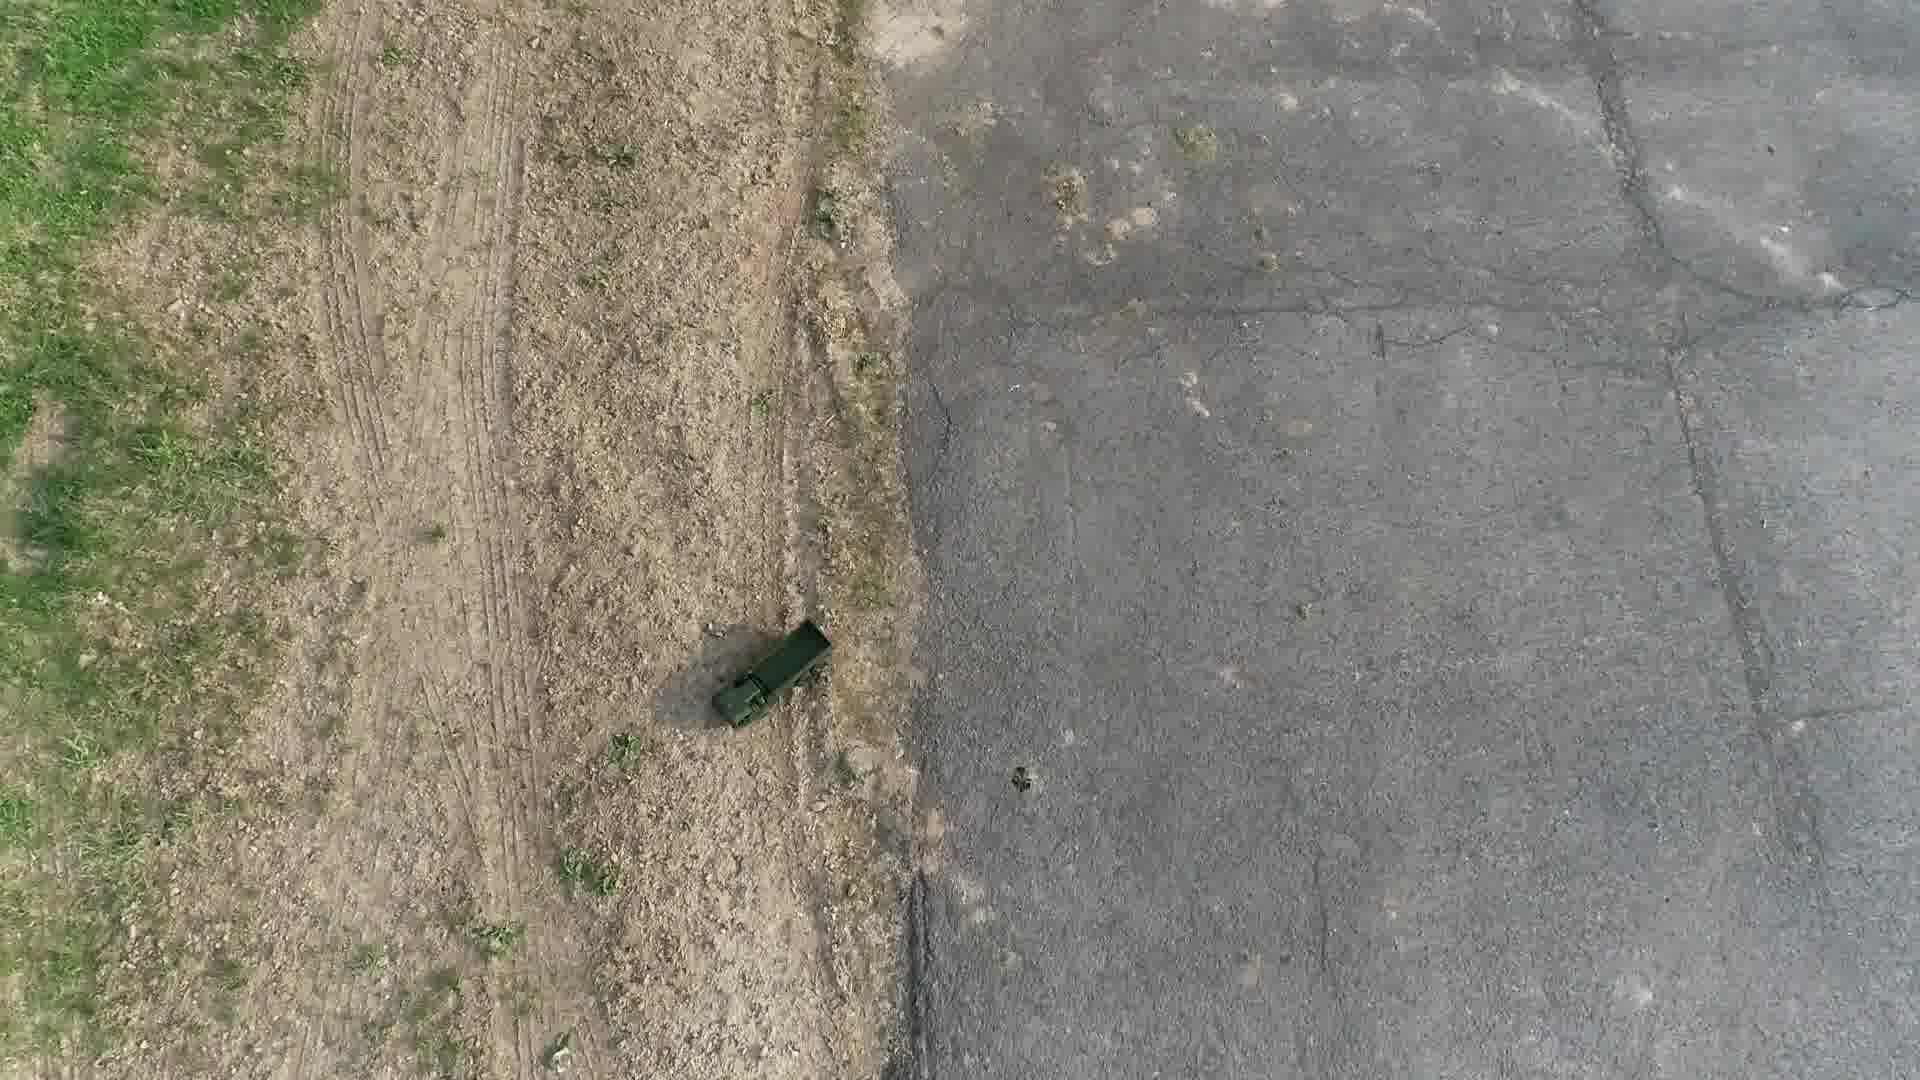transporter9: (703, 611, 840, 736)
